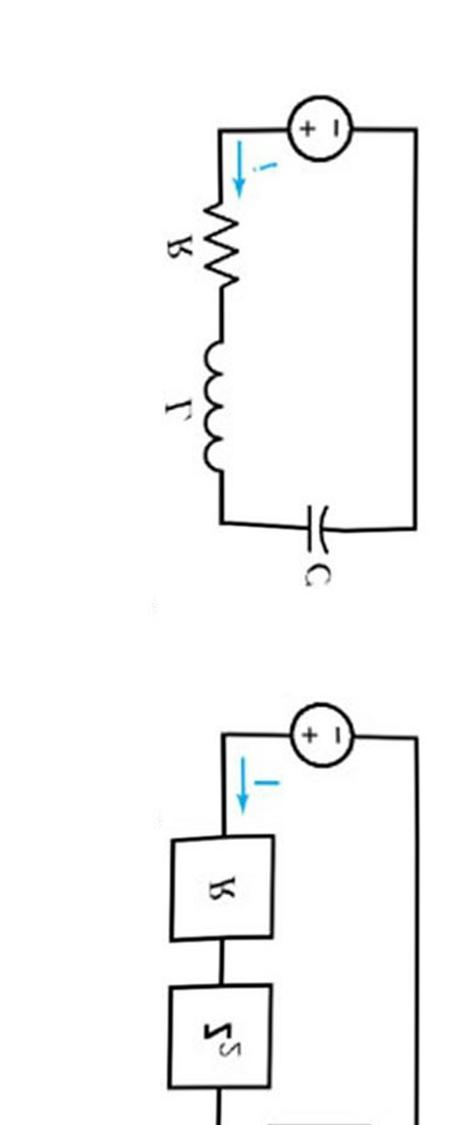Battery: (272, 70, 366, 180), (275, 676, 360, 776)
